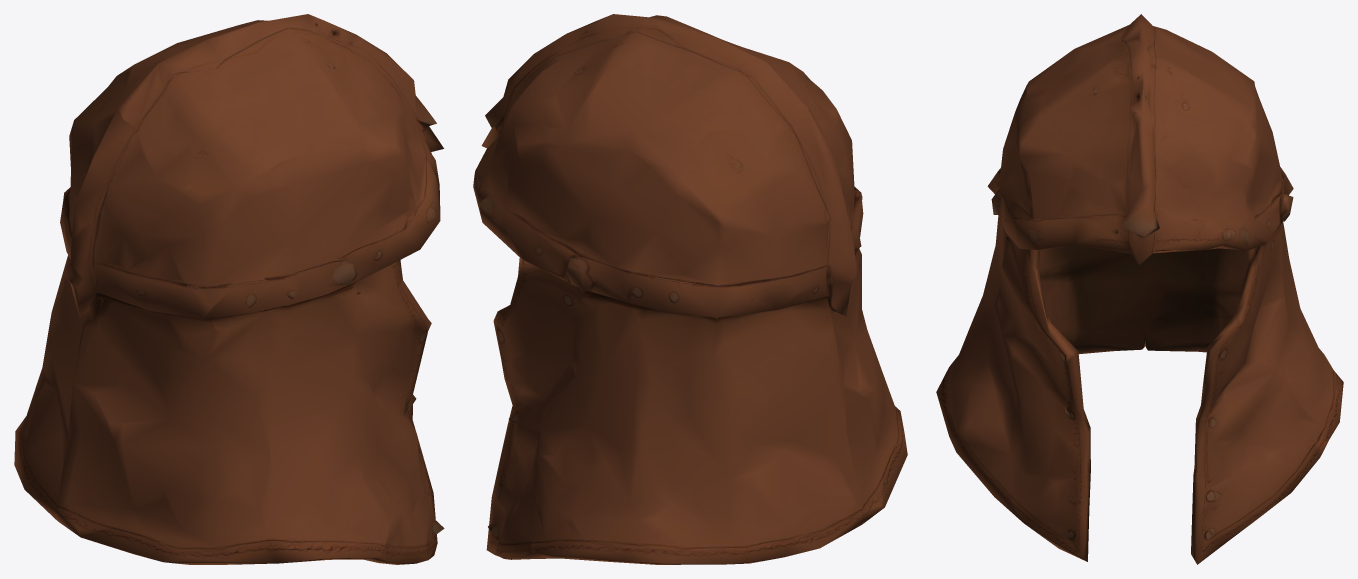
The model's file is item_coif.glb.
The picture shows the model from 3 angles, left to right: view 1: azimuth 30°, elevation 25°; view 2: azimuth 150°, elevation 25°; view 3: azimuth 270°, elevation 25°; orthographic projection. The views are drawn at different scales.
Parts seen in each view (by area): view 1: tripo_node_4e4f4f8b-08e4-4694-b525-60519a0bf644; view 2: tripo_node_4e4f4f8b-08e4-4694-b525-60519a0bf644; view 3: tripo_node_4e4f4f8b-08e4-4694-b525-60519a0bf644.
Part boxes in pixels (x1=…): tripo_node_4e4f4f8b-08e4-4694-b525-60519a0bf644: x1=14, y1=14, x2=444, y2=564; tripo_node_4e4f4f8b-08e4-4694-b525-60519a0bf644: x1=473, y1=14, x2=907, y2=564; tripo_node_4e4f4f8b-08e4-4694-b525-60519a0bf644: x1=936, y1=14, x2=1343, y2=564.
Size of the model in its own units: 0.7447 by 1 by 0.7976.
Materials: 1 (1 with a texture image).
